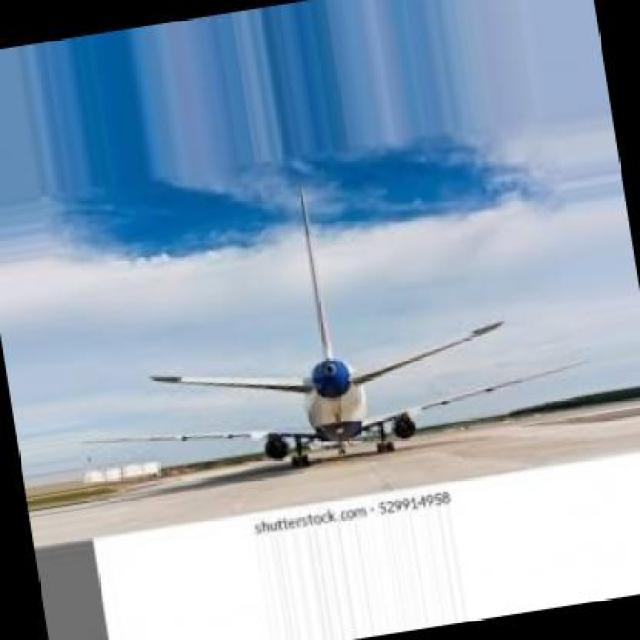iha: (79, 175, 595, 468)
